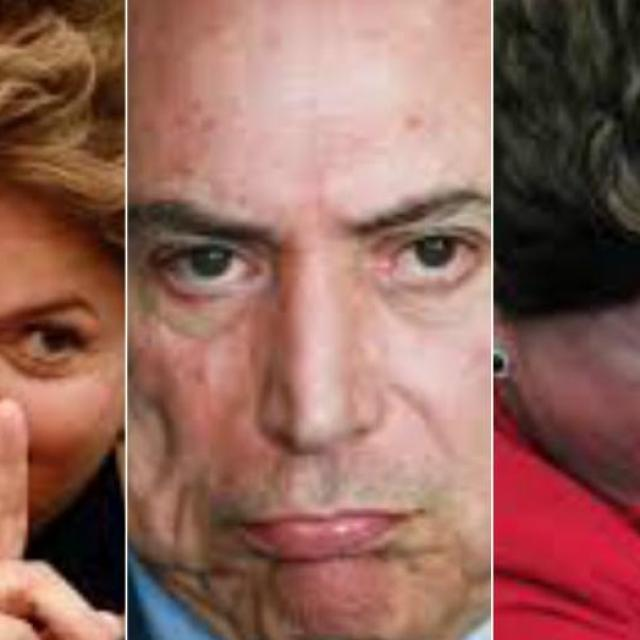Depress: (131, 19, 489, 639)
